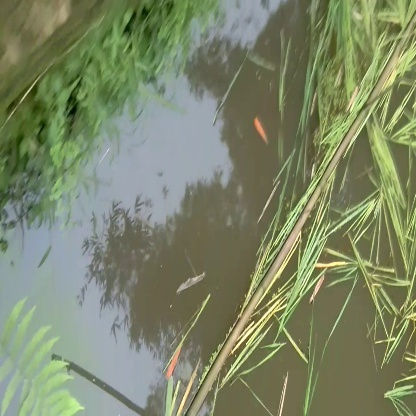branch: (189, 167, 339, 413)
